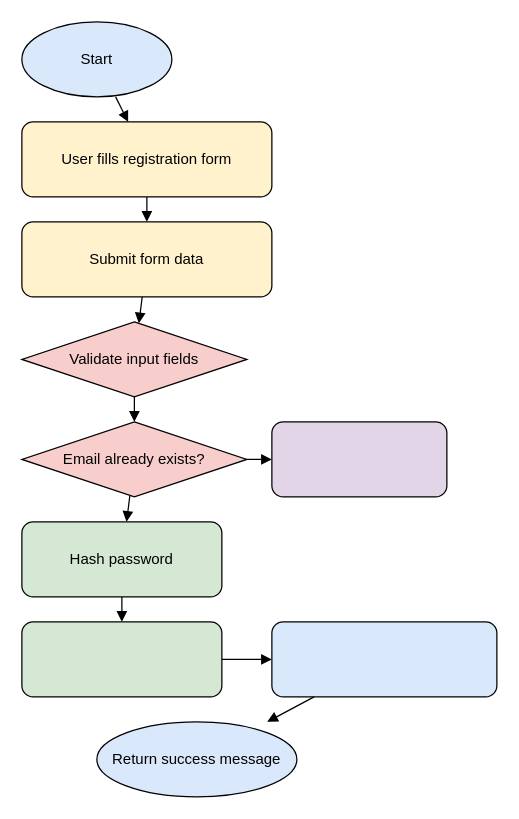
Some shapes in this 519 by 819 pixel diagram are drawn without their labels. Here are the shapes that lost their labels. From the top down, the centre of each, then its label:
At point 359,459: "Return error".
At point 121,659: "Store user in DB".
At point 384,659: "Send confirmation email".
